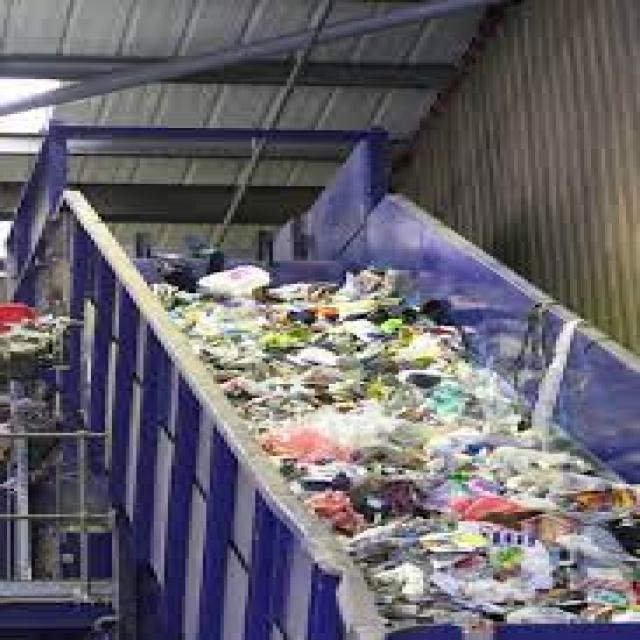plastic: (252, 263, 437, 442)
